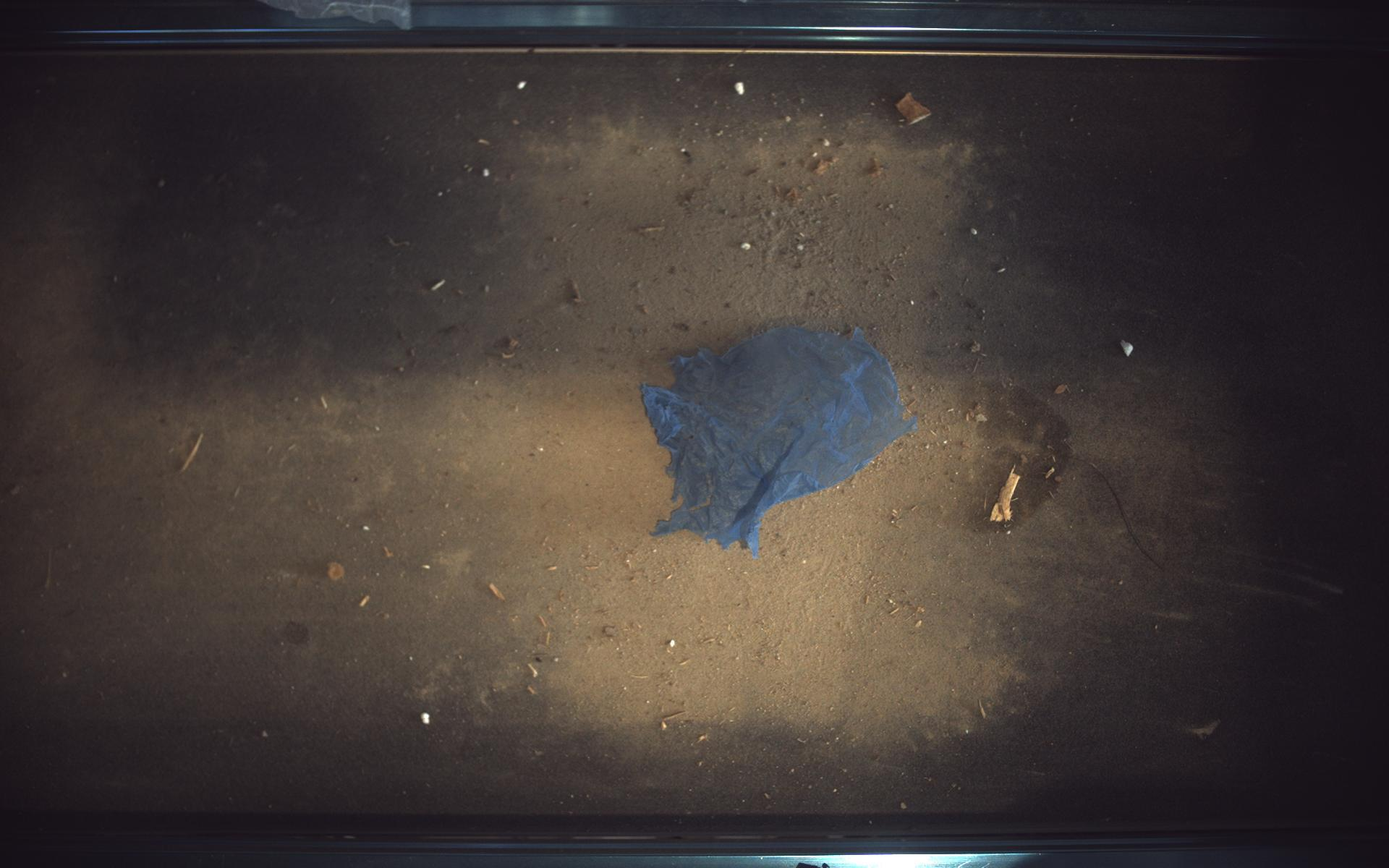general_w: (642, 327, 919, 559)
